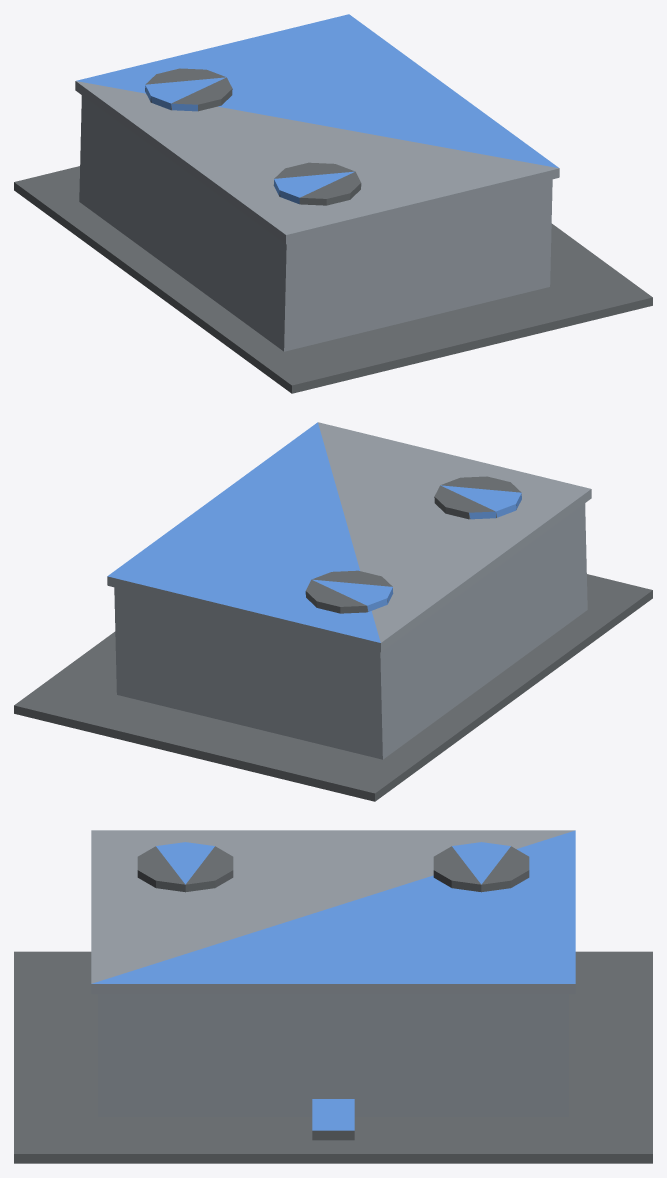
File: veyran_refinery_damaged.glb
The picture shows the model from 3 angles, top to bottom: view 1: azimuth 30°, elevation 25°; view 2: azimuth 150°, elevation 25°; view 3: azimuth 270°, elevation 25°; orthographic projection. The views are drawn at different scales.
Parts seen in each view (by area): view 1: hull; view 2: hull; view 3: hull, belt.
Part boxes in pixels (box(x1,y1,x2,y2)): hull: box(14, 14, 652, 393); hull: box(14, 422, 652, 801); hull: box(14, 830, 652, 1163); belt: box(312, 1099, 354, 1140).
Bounding box in the file's own units: 11.4 × 4.04 × 15.2.
